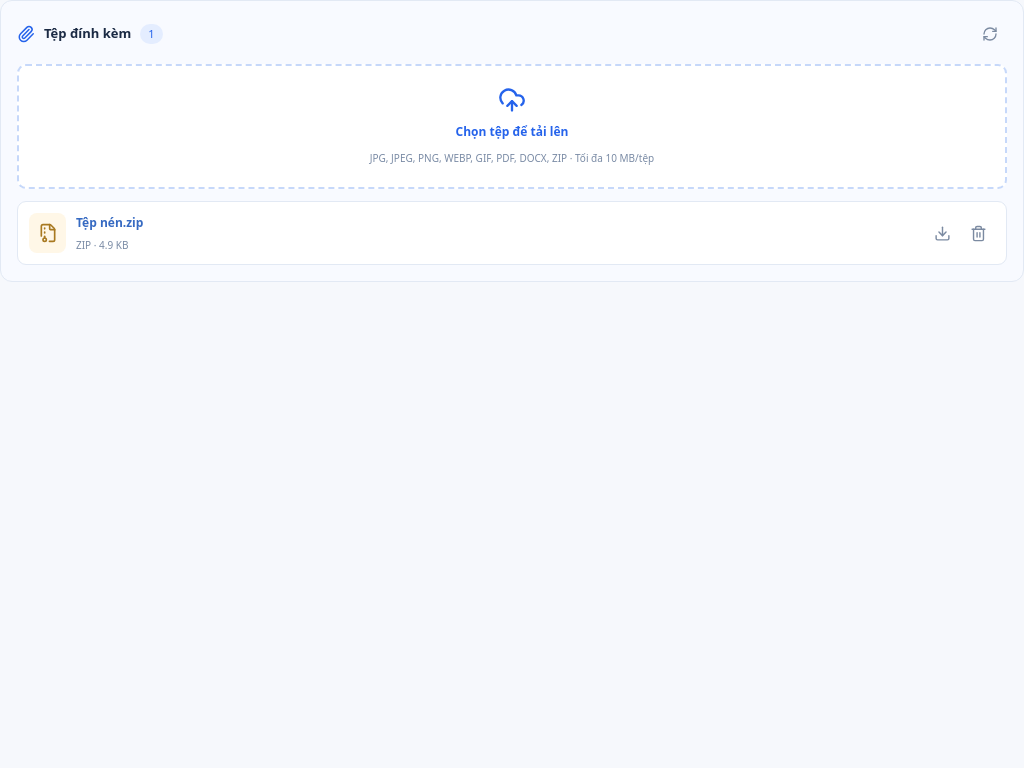
Scenario: Task attachment management › only deletes after confirmation and updates the list and count
expect the file field named "Chọn tệp đính kèm" is enabled: met, box left=0, top=85, right=1023, bottom=127
Click the button named "Xóa Tệp nén.zip" at (978, 233), box left=961, top=216, right=995, bottom=250
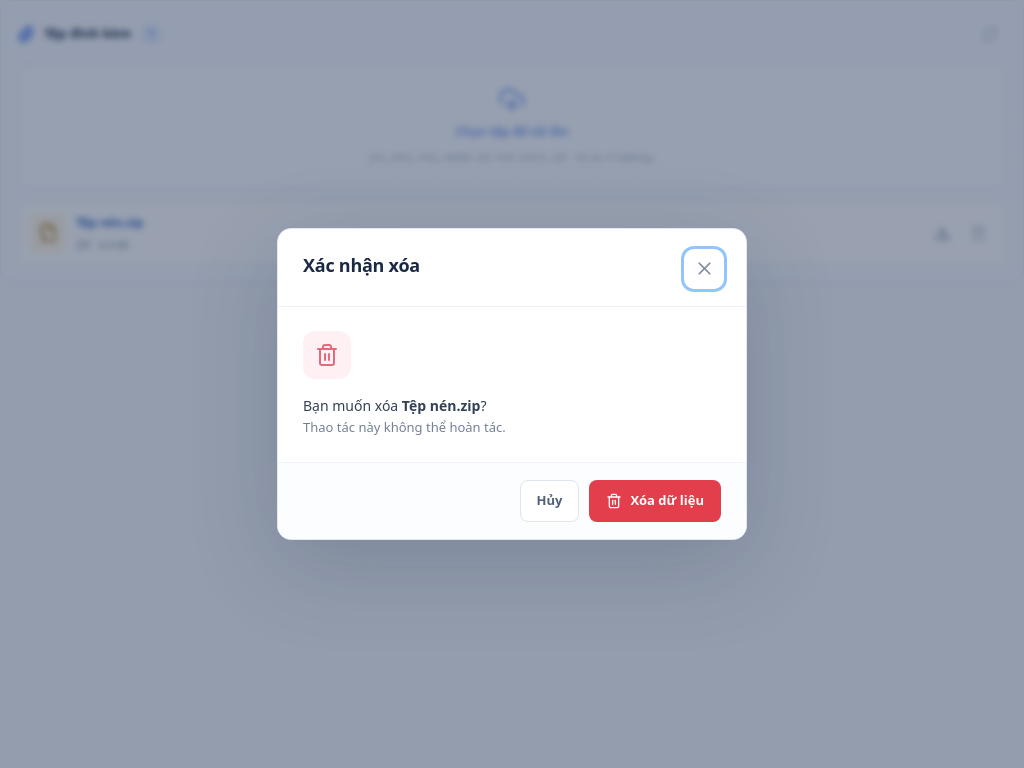
Click the button "Xóa dữ liệu" at (655, 501), box left=589, top=480, right=721, bottom=522
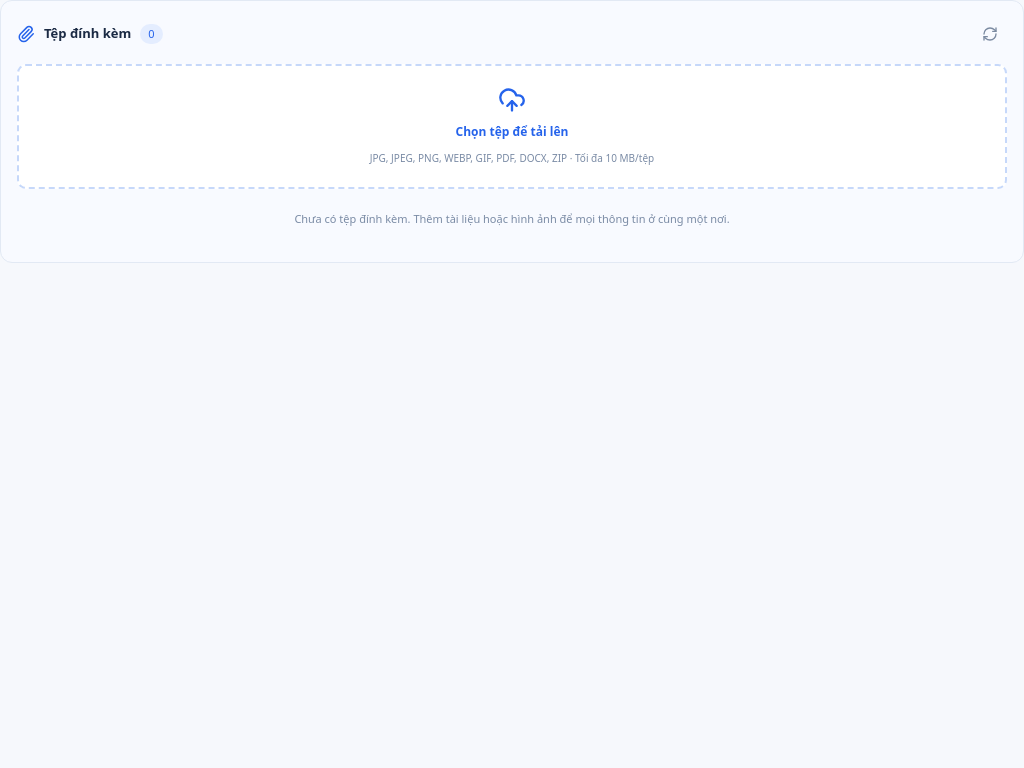
expect the dialog is gone: met
expect the text named "0 tệp đính kèm" is shown: met, box left=140, top=24, right=163, bottom=44
